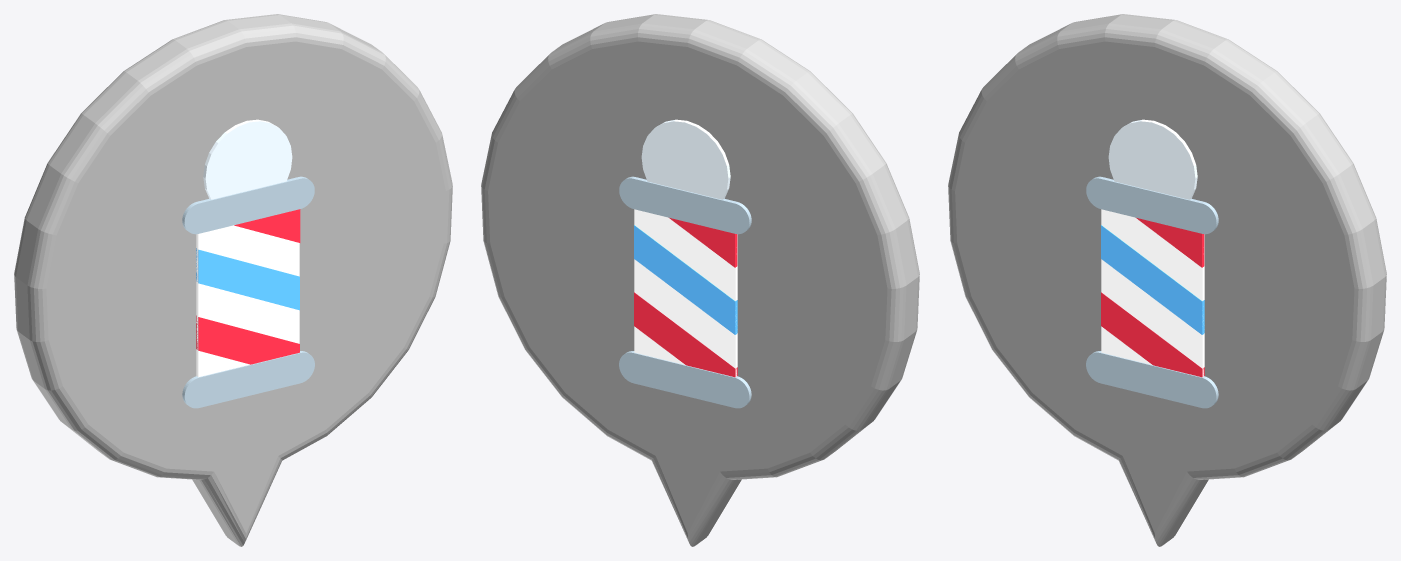
The model's file is barber.glb.
The picture shows the model from 3 angles, left to right: view 1: azimuth 30°, elevation 25°; view 2: azimuth 150°, elevation 25°; view 3: azimuth 330°, elevation 25°; orthographic projection.
Parts seen in each view (by area): view 1: EmotionBubble; view 2: EmotionBubble; view 3: EmotionBubble.
Part boxes in pixels (x1,y1,x2,y2): EmotionBubble: [14, 14, 452, 546]; EmotionBubble: [481, 14, 919, 546]; EmotionBubble: [948, 14, 1386, 546].
Bounding box in the file's own units: 5.29 × 6.16 × 0.706.
